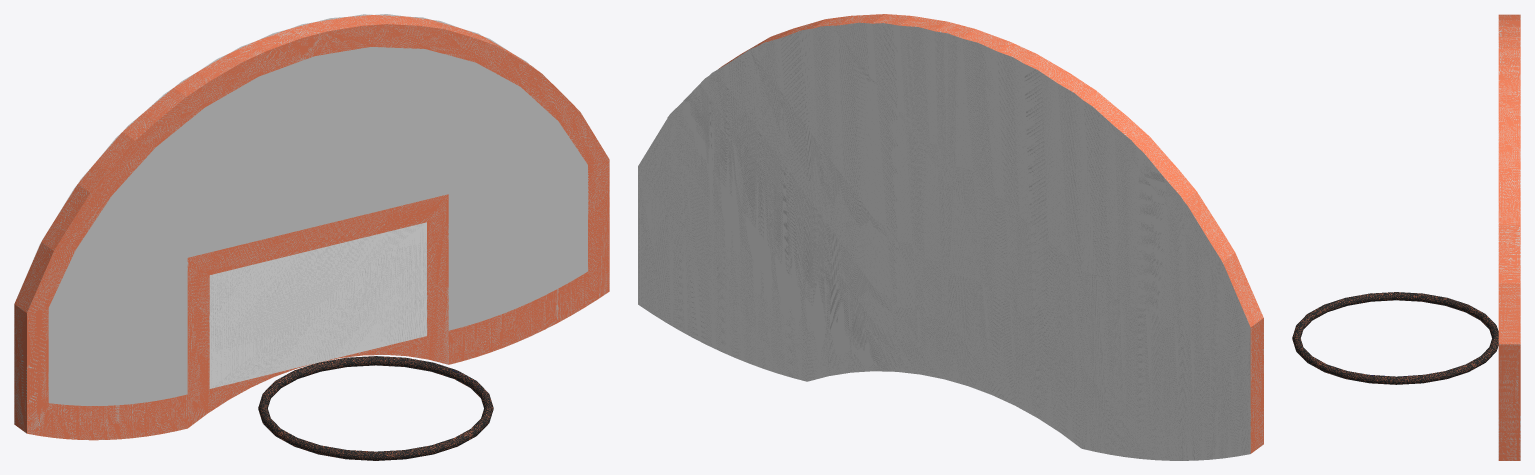
File: hoop.dae
3 views of the same model, side by side, from view 1: azimuth 30°, elevation 25°; view 2: azimuth 150°, elevation 25°; view 3: azimuth 270°, elevation 25° (orthographic). The views are drawn at different scales.
Visible parts, largest first — view 1: group_2 (×4), group_1; view 2: group_2 (×2); view 3: group_2, group_1.
Part boxes in pixels (x1=…): group_2 (×4): x1=14, y1=14, x2=609, y2=440; group_1: x1=258, y1=356, x2=493, y2=460; group_2 (×2): x1=638, y1=14, x2=1263, y2=460; group_2: x1=1498, y1=14, x2=1520, y2=460; group_1: x1=1292, y1=292, x2=1498, y2=384.
Size of the model in its own units: 53.58 by 20.56 by 31.99.
